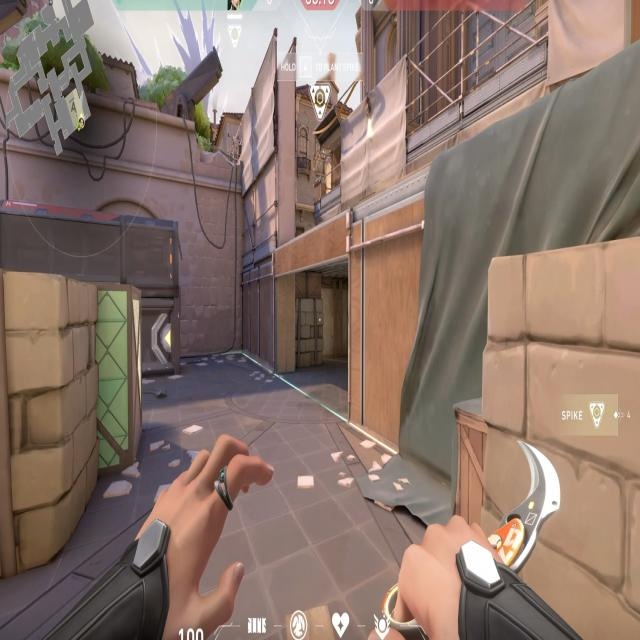A_Heaven_Wall: (226, 30, 306, 242)
A_Hell: (271, 206, 370, 426)
